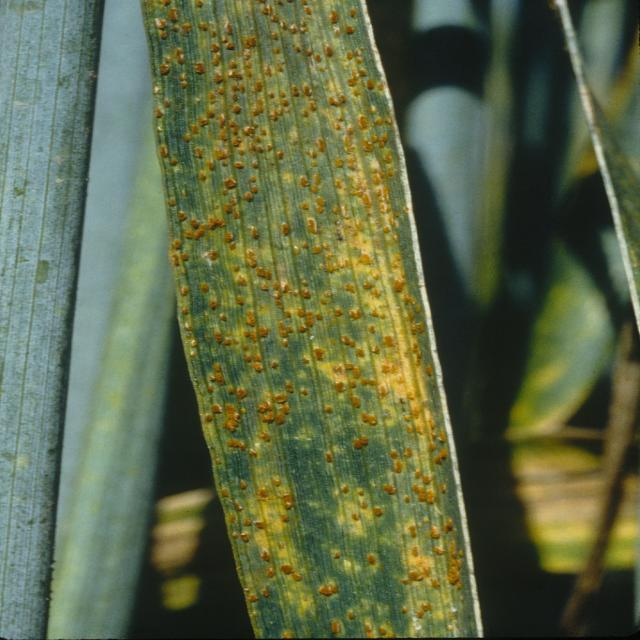leaf rust: (144, 1, 491, 638)
